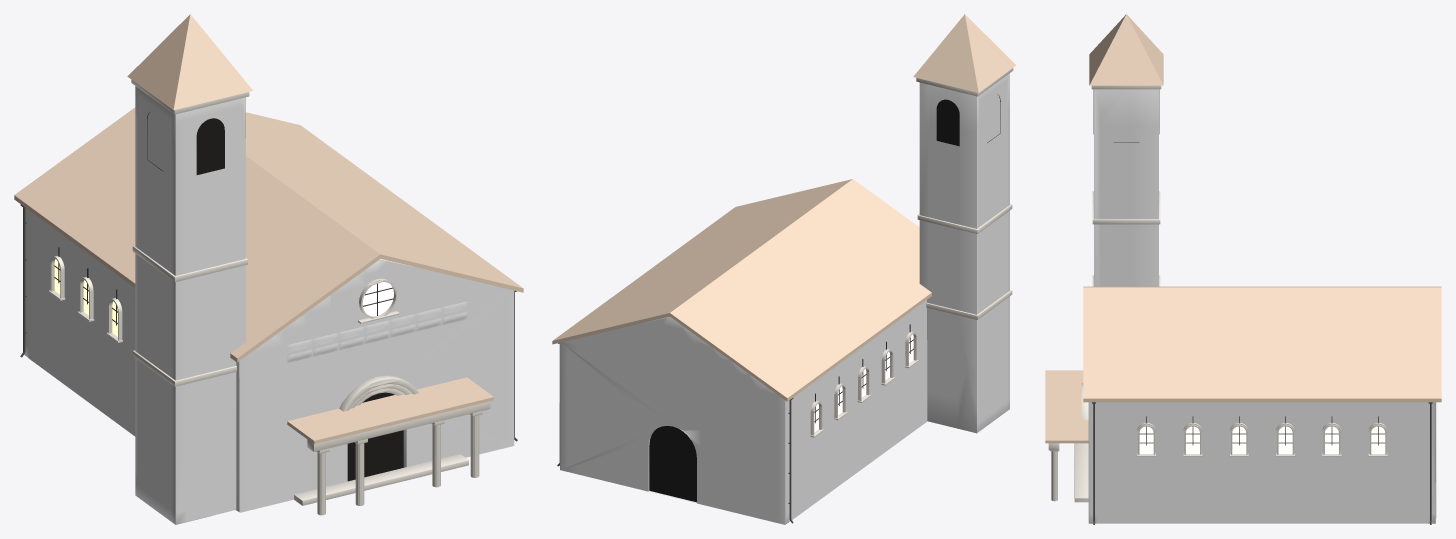
Rendered from campanile.glb.
3 views of the same model, side by side, from view 1: azimuth 30°, elevation 25°; view 2: azimuth 150°, elevation 25°; view 3: azimuth 270°, elevation 25° (orthographic). The views are drawn at different scales.
Parts seen in each view (by area): view 1: methodist_wall, methodist_roof, methodist_trim, methodist_shadow, merged_methodist_relief_methodist-band, methodist_glass, detail_methodist_pipe; view 2: methodist_wall, methodist_roof, methodist_shadow, methodist_trim, methodist_glass; view 3: methodist_wall, methodist_roof, methodist_trim, methodist_glass, detail_methodist_frame, detail_methodist_pipe.
Boxes of the visible parts, x1,y1,x2,y2 form: methodist_wall: (24, 86, 514, 524); methodist_roof: (14, 14, 523, 444); methodist_trim: (48, 79, 490, 515); methodist_shadow: (147, 112, 403, 481); merged_methodist_relief_methodist-band: (287, 301, 467, 362); methodist_glass: (54, 259, 393, 336); detail_methodist_pipe: (20, 204, 517, 441); methodist_wall: (559, 73, 1009, 524); methodist_roof: (552, 14, 1016, 401); methodist_shadow: (649, 94, 1000, 502); methodist_trim: (810, 68, 1013, 437); methodist_glass: (814, 334, 913, 432); methodist_wall: (1088, 89, 1436, 523); methodist_roof: (1045, 14, 1441, 443); methodist_trim: (1048, 85, 1387, 502); methodist_glass: (1139, 426, 1385, 453); detail_methodist_frame: (1140, 416, 1384, 445); detail_methodist_pipe: (1092, 402, 1432, 524).
Size of the model in its own units: 20.83 by 28.02 by 25.65.
